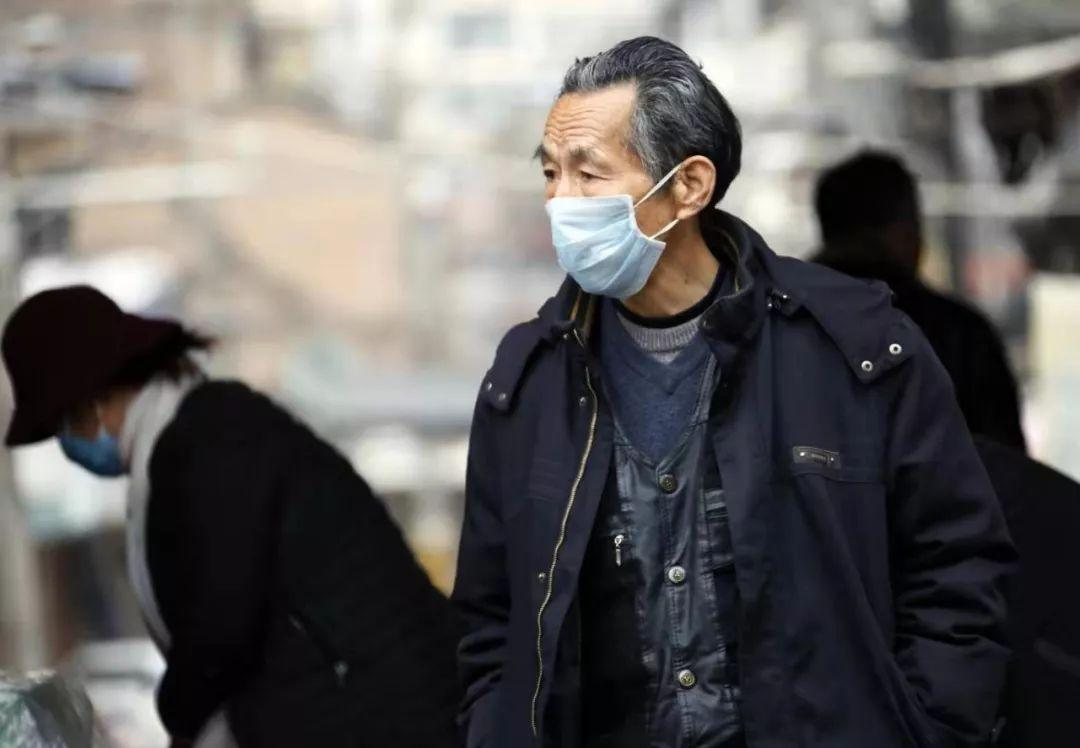mask: (539, 72, 711, 298)
